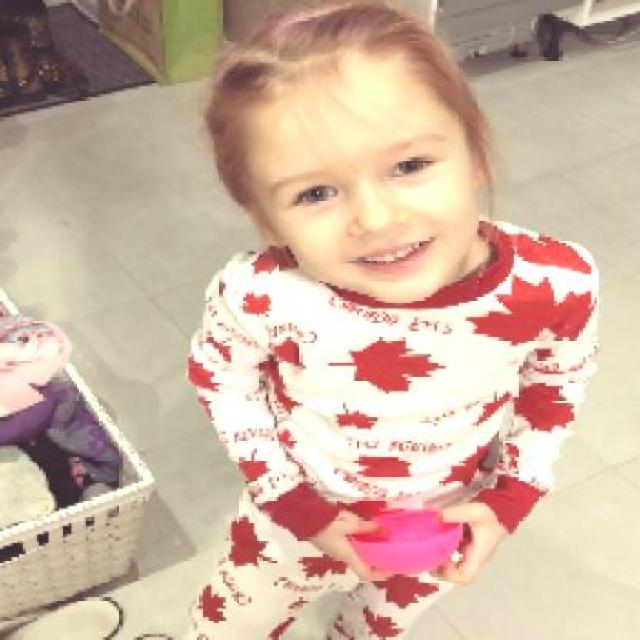child: (180, 0, 603, 637)
